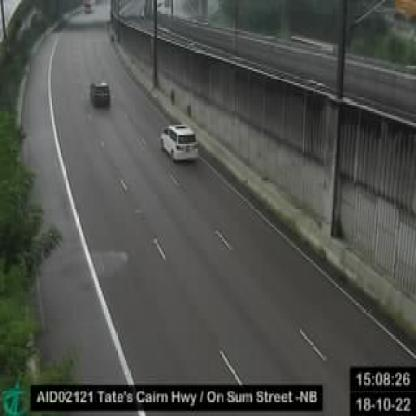Car: (161, 123, 200, 164), (88, 78, 111, 109)
